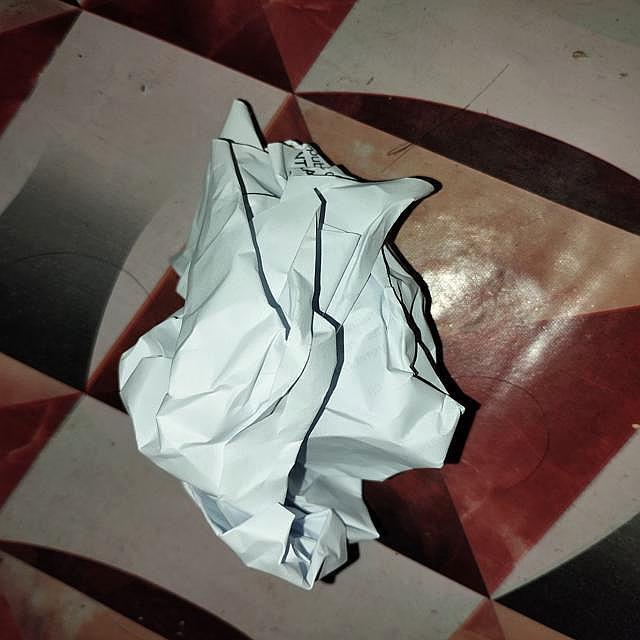Biodegradable: (121, 93, 463, 587)
